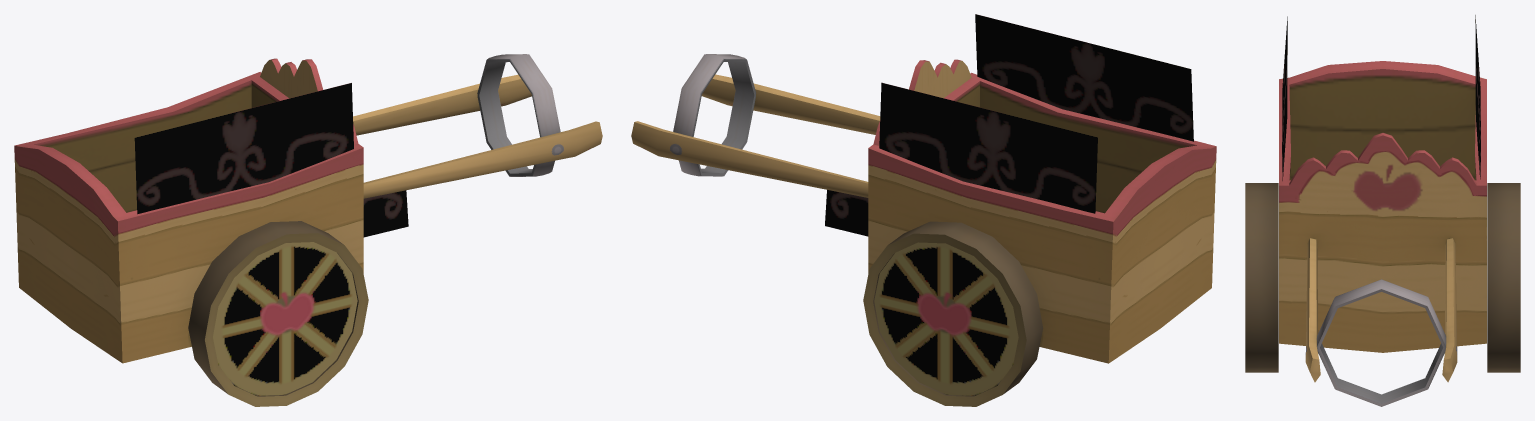
The model's file is saacart.dae.
The picture shows the model from 3 angles, left to right: view 1: azimuth 30°, elevation 25°; view 2: azimuth 150°, elevation 25°; view 3: azimuth 270°, elevation 25°; orthographic projection.
Visible parts, largest first — view 1: AppleCart, AppleCartExtras; view 2: AppleCart, AppleCartExtras; view 3: AppleCart, AppleCartExtras.
Part boxes in pixels (left/top/right/bottom): AppleCart: left=14, top=54, right=602, bottom=406; AppleCartExtras: left=134, top=83, right=408, bottom=395; AppleCart: left=631, top=54, right=1216, bottom=406; AppleCartExtras: left=825, top=14, right=1193, bottom=395; AppleCart: left=1245, top=61, right=1520, bottom=406; AppleCartExtras: left=1282, top=15, right=1480, bottom=180.
Size of the model in its own units: 21.63 by 11.84 by 10.25.
